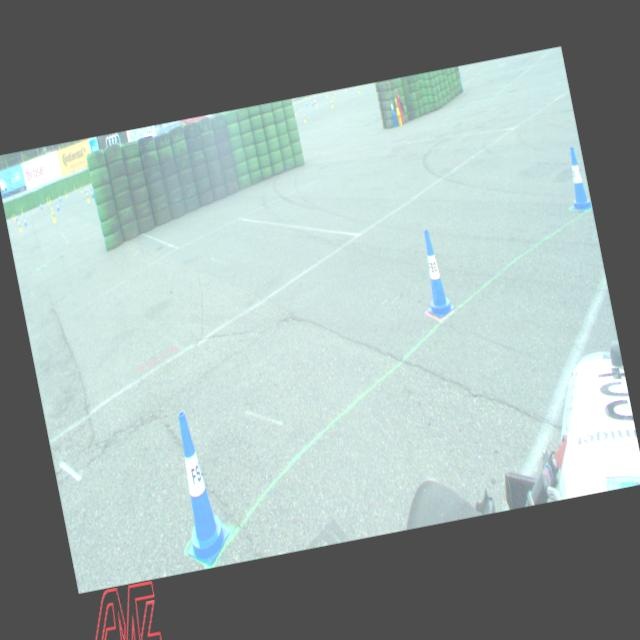blue_cone: (161, 406, 235, 568), (414, 227, 456, 321), (562, 146, 592, 212), (388, 98, 396, 116), (22, 215, 28, 226), (55, 200, 60, 212), (90, 187, 94, 198)
yellow_cone: (394, 97, 401, 115), (16, 220, 22, 232), (51, 210, 57, 222), (86, 192, 91, 204), (302, 114, 306, 124), (330, 99, 334, 108), (357, 86, 361, 94)
